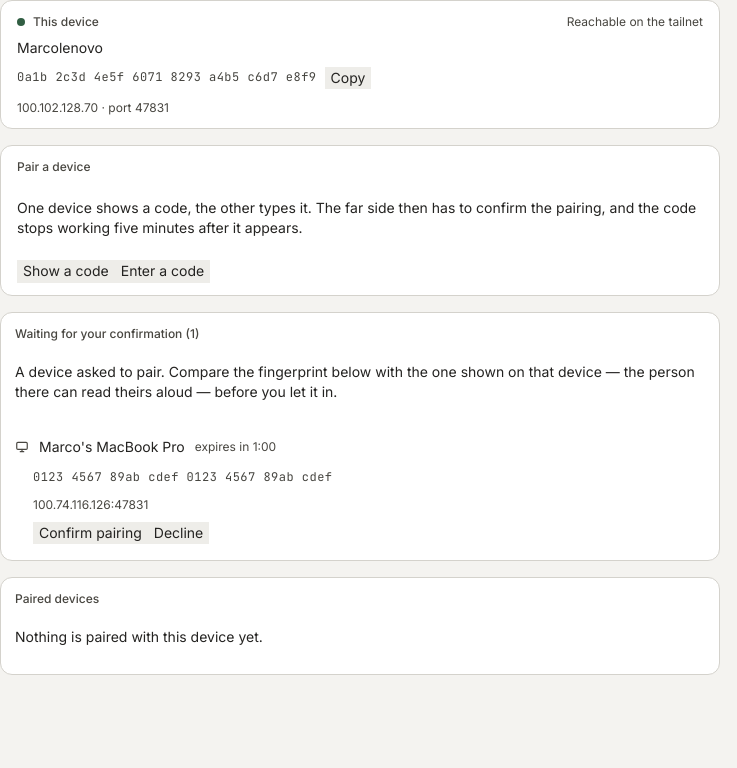
Test: pairing session across a Settings page switch › does not take a parked pairing that was already listed before the code was shown as spent
Click the button "Show a code": coordinates (66, 272) [17, 260, 115, 283]
Wait 1000 ms
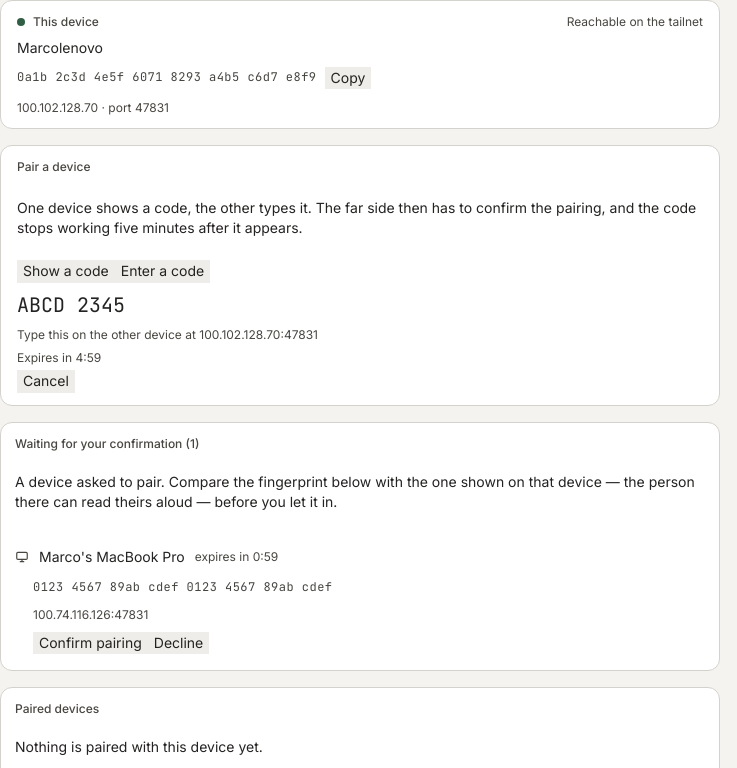
Check: the text "ABCD 2345" is shown, box [17, 291, 125, 320]
